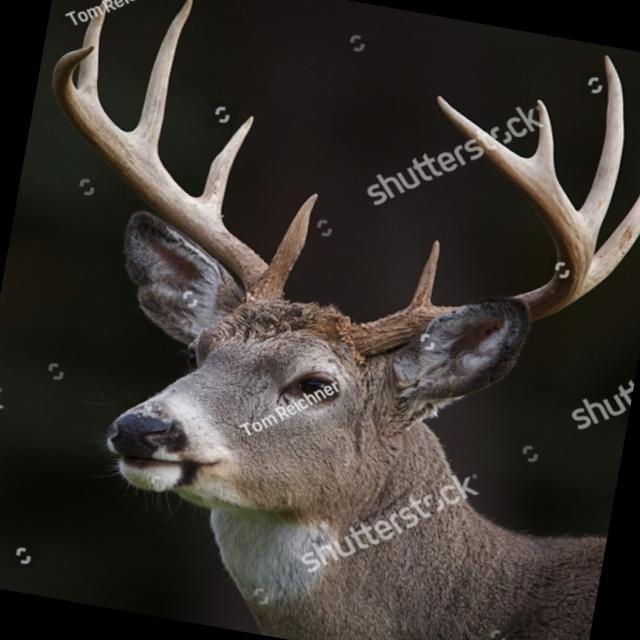E1: (526, 99, 554, 176)
L-G1: (405, 239, 440, 312)
L-G2: (582, 193, 640, 296)
L-G3: (577, 54, 624, 244)
R-G1: (267, 192, 318, 287)
R-G2: (193, 114, 254, 225)
R-G3: (126, 0, 194, 160)
R-G4: (76, 0, 109, 110)
